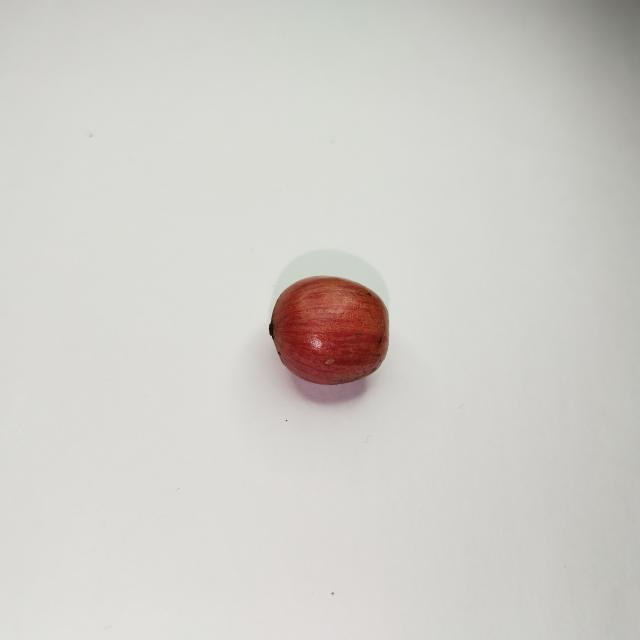Sano: (269, 275, 386, 386)
